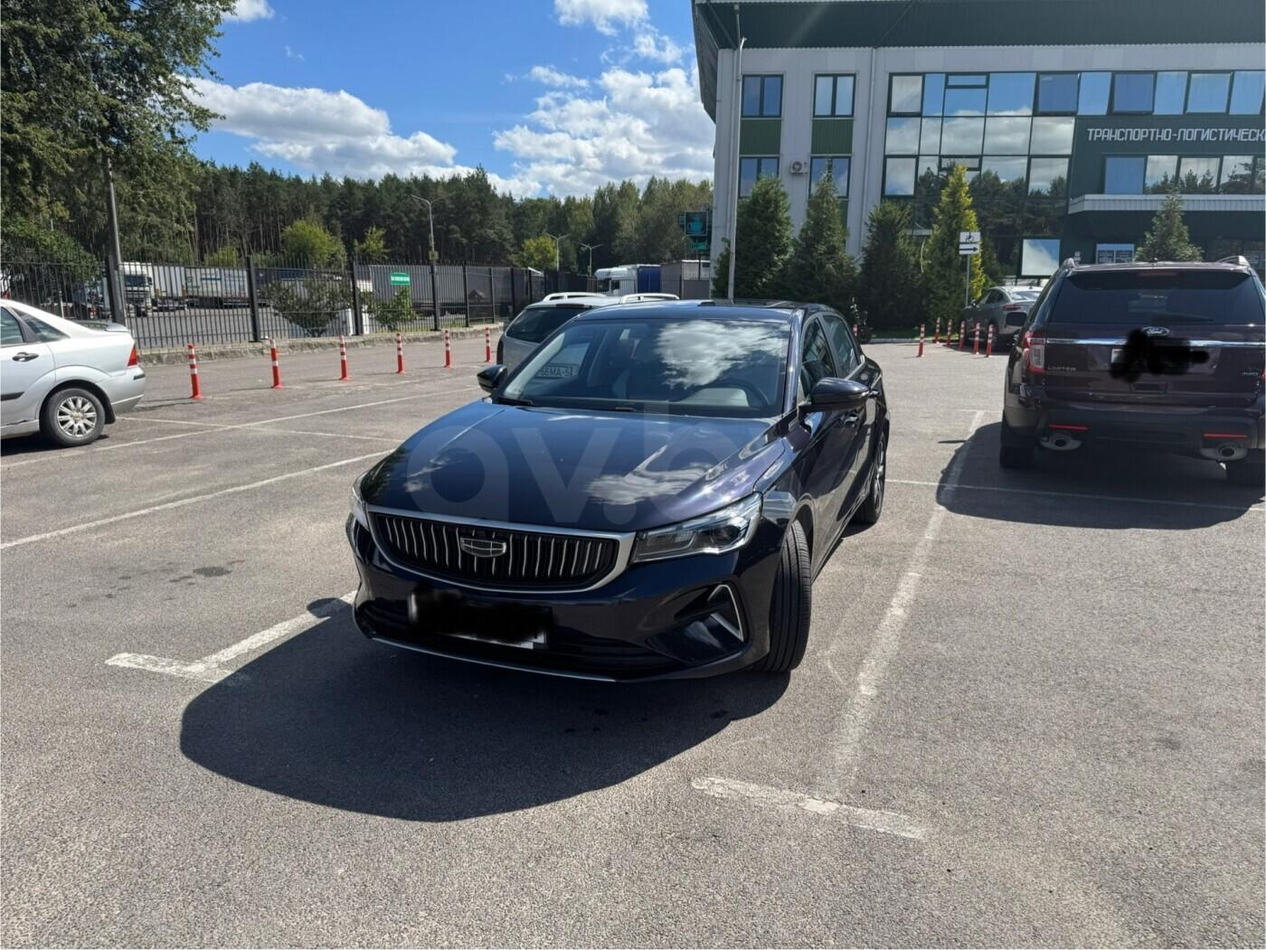Emgrand_2021: (333, 301, 894, 688)
